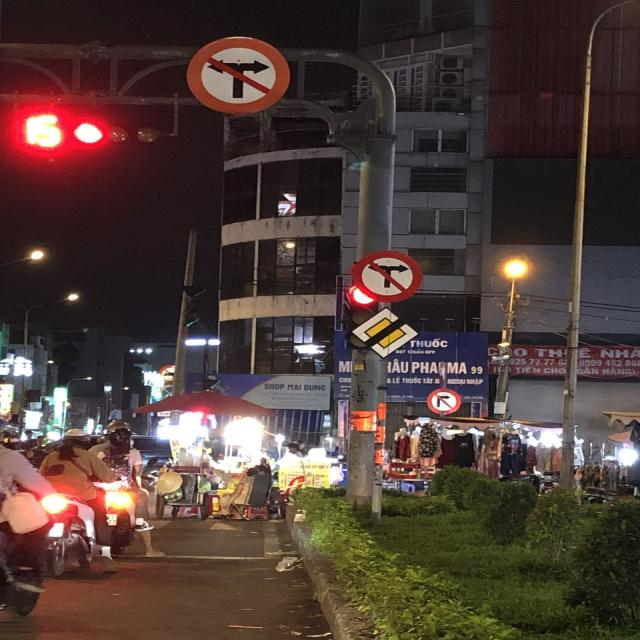Bien bao cam re phai: (424, 386, 462, 419)
